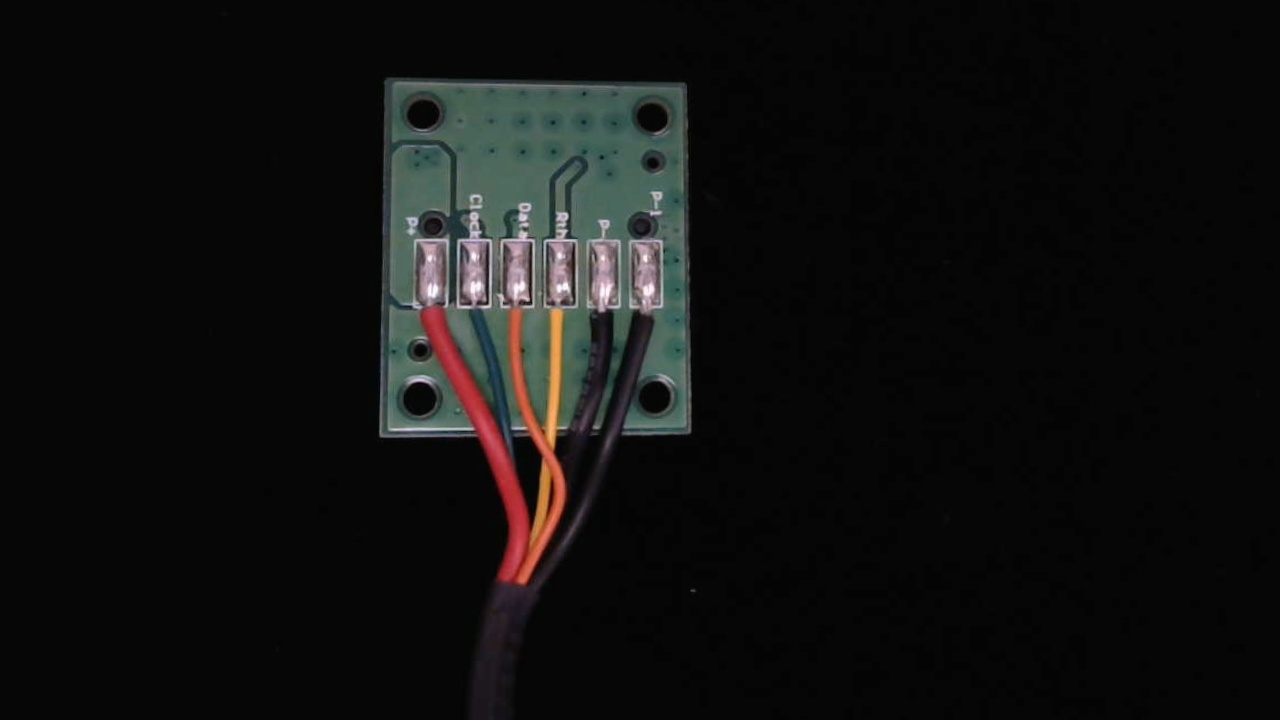Black: (583, 292, 623, 362)
Black1: (630, 292, 665, 353)
Green: (457, 288, 497, 351)
Orange: (497, 288, 536, 354)
Red: (411, 293, 451, 358)
Yellow: (540, 291, 577, 359)
